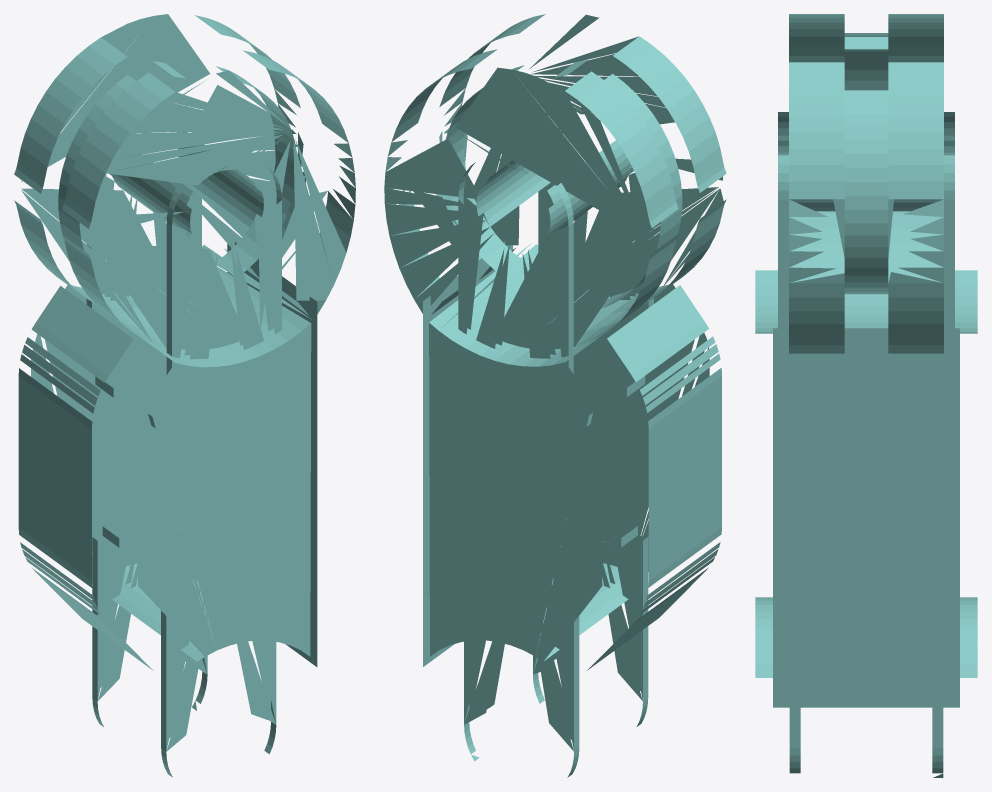
File: H2R3_finger_knuckle1.dae
3 views of the same model, side by side, from view 1: azimuth 30°, elevation 25°; view 2: azimuth 150°, elevation 25°; view 3: azimuth 270°, elevation 25° (orthographic). The views are drawn at different scales.
Parts seen in each view (by area): view 1: H2R3_finger_knuckle1; view 2: H2R3_finger_knuckle1; view 3: H2R3_finger_knuckle1.
Boxes of the visible parts, left/top/right/bottom form: H2R3_finger_knuckle1: left=14, top=14, right=355, bottom=777; H2R3_finger_knuckle1: left=384, top=14, right=726, bottom=777; H2R3_finger_knuckle1: left=755, top=14, right=977, bottom=777.
Bounding box in the file's own units: 0.0231 × 0.0161 × 0.058.
